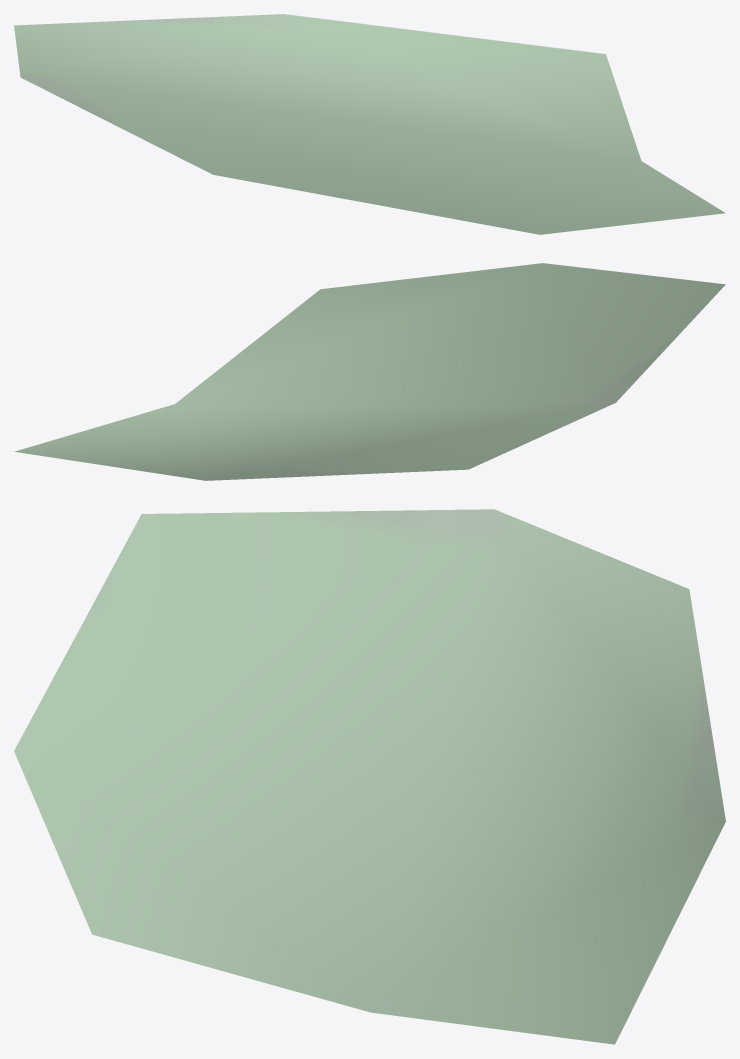
The model's file is TROLLHOLE02_HOLECAP103.fbx.
3 views of the same model, one above another, from view 1: azimuth 30°, elevation 25°; view 2: azimuth 150°, elevation 25°; view 3: azimuth 270°, elevation 25° (orthographic). The views are drawn at different scales.
Visible parts, largest first — view 1: TROLLHOLE02_HOLECAP103; view 2: TROLLHOLE02_HOLECAP103; view 3: TROLLHOLE02_HOLECAP103.
Part boxes in pixels (<box>): TROLLHOLE02_HOLECAP103: <box>14,14,725,234</box>; TROLLHOLE02_HOLECAP103: <box>14,263,725,480</box>; TROLLHOLE02_HOLECAP103: <box>14,509,725,1044</box>.
Bounding box in the file's own units: 22719 × 6512 × 19828.
Materials: 1 (1 with a texture image).
